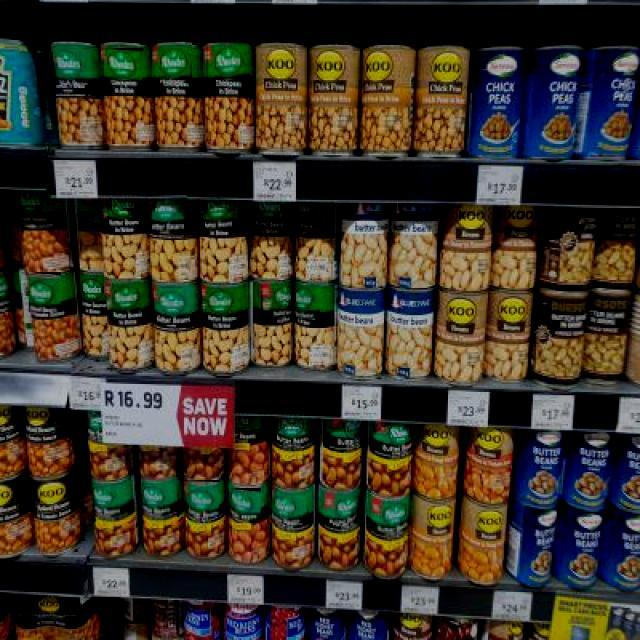Beans: (140, 475, 178, 525), (92, 484, 138, 524), (152, 42, 194, 84), (318, 488, 365, 525), (152, 190, 189, 236), (206, 43, 252, 80), (178, 479, 220, 519), (51, 47, 91, 87), (374, 496, 412, 538), (13, 190, 52, 230), (103, 48, 145, 83), (270, 490, 310, 526), (28, 272, 62, 314), (152, 284, 194, 318), (108, 278, 142, 314), (261, 281, 288, 321), (205, 288, 245, 314), (228, 488, 262, 517), (296, 286, 322, 320), (206, 202, 236, 230), (0, 270, 14, 313)
